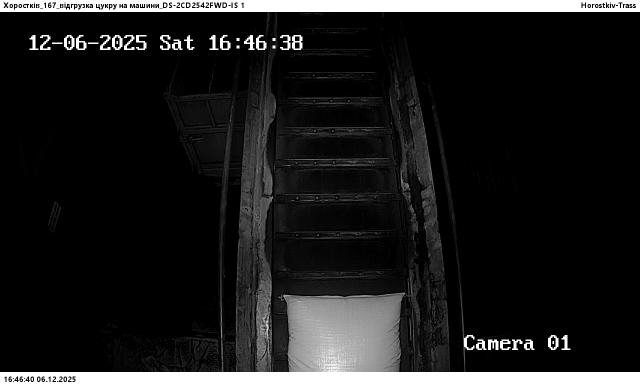bag: (284, 292, 406, 372)
